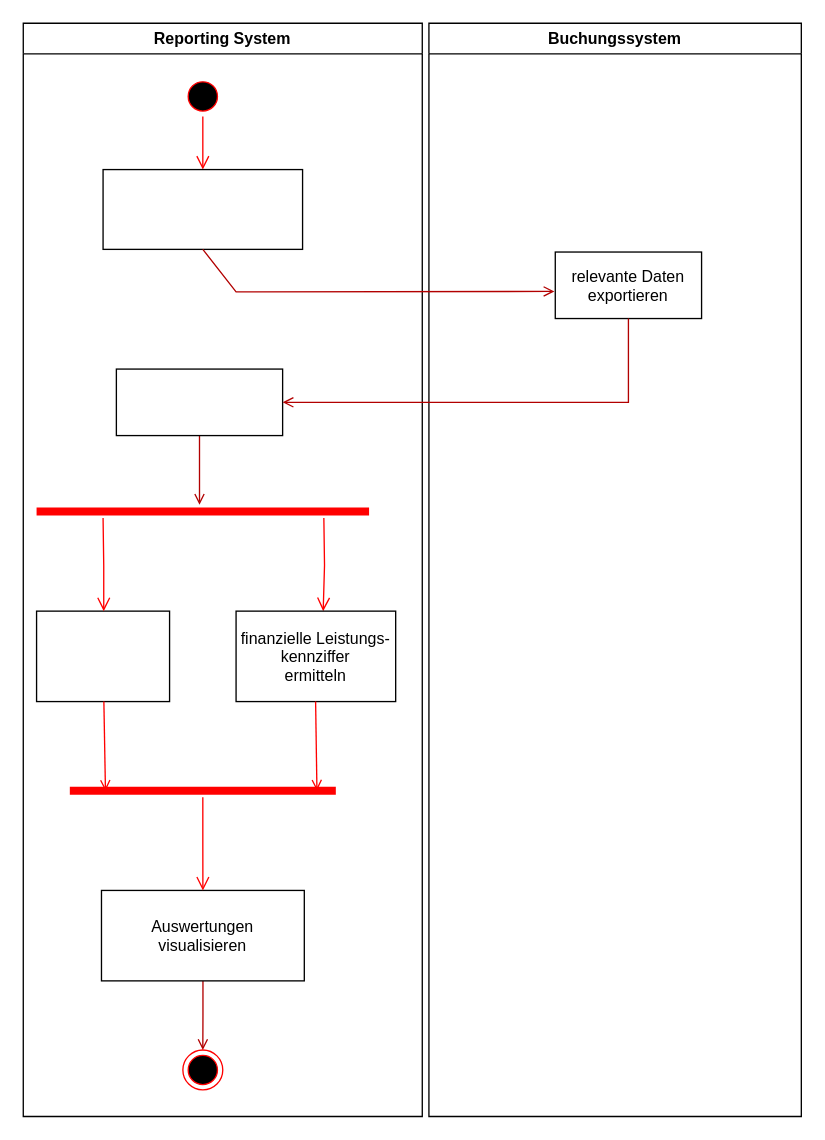
Image size: 825x1140. Some labels were removed from this diagram. Each missing label, with the centre of its shape:
"Art, Dauer & Umfang auswerten" goes at (102,656).
"Daten aus Buchung importieren" goes at (199,402).
"relevante Leistungskennzuahlen definieren" goes at (202,208).
